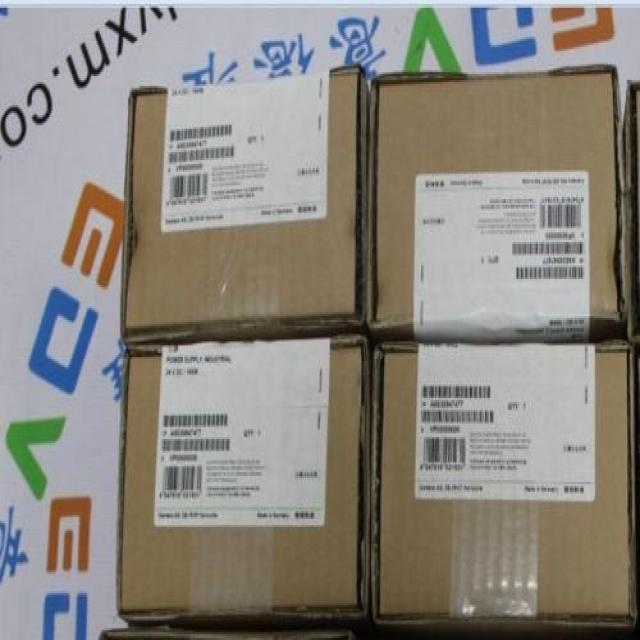box: (372, 343, 639, 625), (117, 332, 368, 630), (120, 64, 370, 346), (370, 66, 624, 342)
